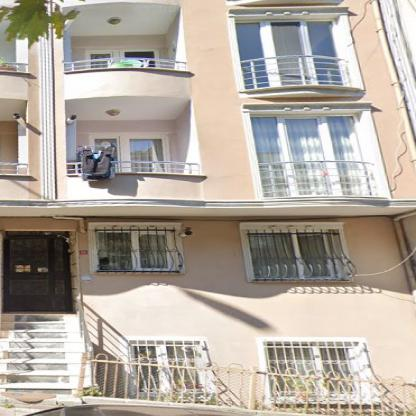door: (6, 240, 68, 310)
window: (252, 116, 364, 162), (267, 343, 357, 394), (234, 22, 337, 62), (250, 234, 332, 277), (132, 344, 201, 392), (98, 232, 171, 269), (128, 138, 163, 161), (88, 52, 154, 58), (9, 232, 66, 237), (93, 138, 119, 147)
